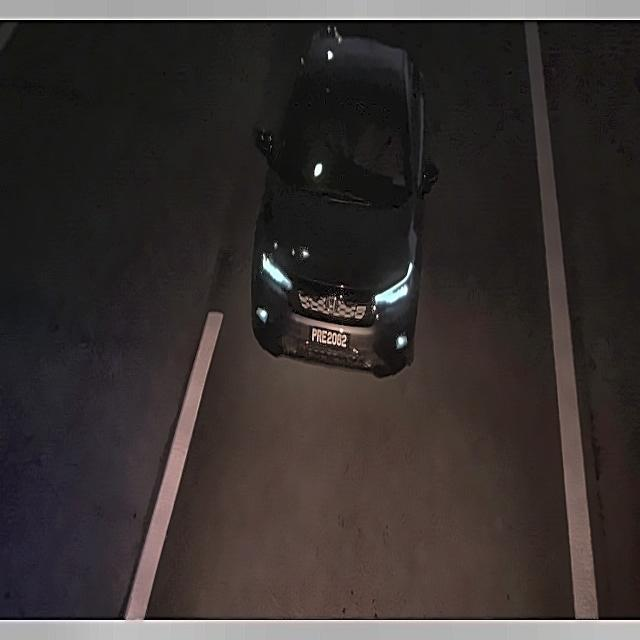car: (307, 312, 350, 360)
